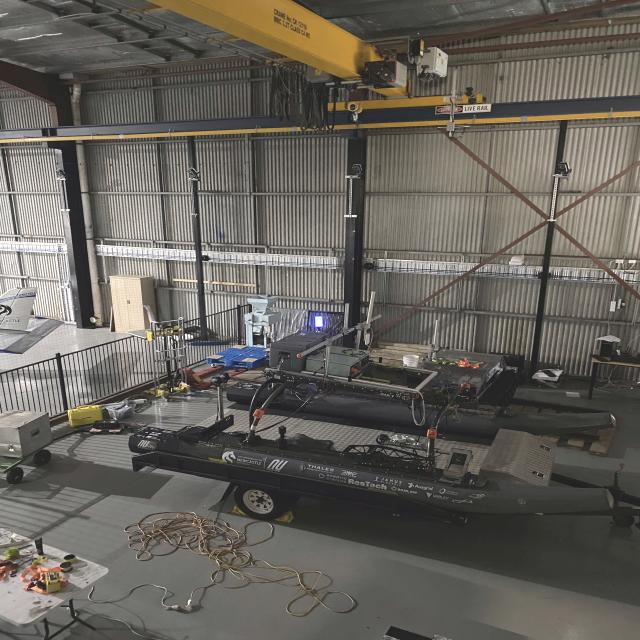matrix: (312, 314, 328, 328)
